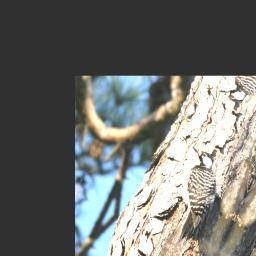Woodpecker: (153, 144, 232, 250)
